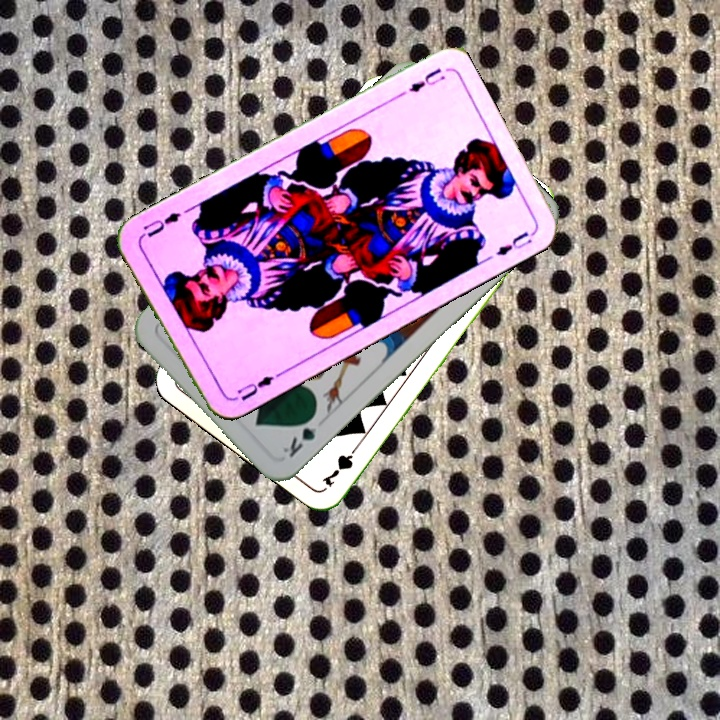EU: (233, 368, 283, 404), (404, 64, 448, 95)
G7: (318, 438, 364, 490)
GK: (278, 409, 320, 460)
